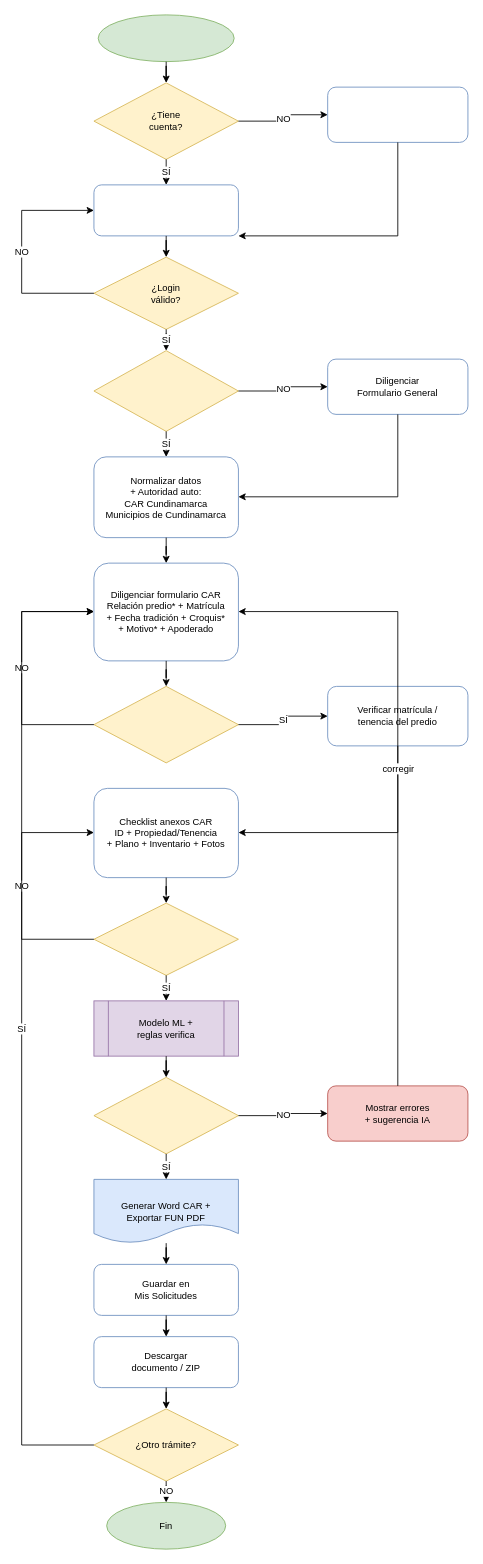
Some shapes in this 483 by 1564 pixel diagram are drawn without their labels. Each missing label, with the box of its shape:
Crear cuenta (rol cliente): (327, 86, 468, 142)
Iniciar aplicación: (97, 14, 234, 62)
Iniciar sesión (JWT): (93, 184, 238, 236)
¿Anexos completos?: (93, 902, 238, 975)
¿Datos válidos?: (93, 1077, 238, 1154)
¿FUN General diligenciado?: (93, 350, 238, 431)
¿Info completa y correcta?: (93, 686, 238, 763)
